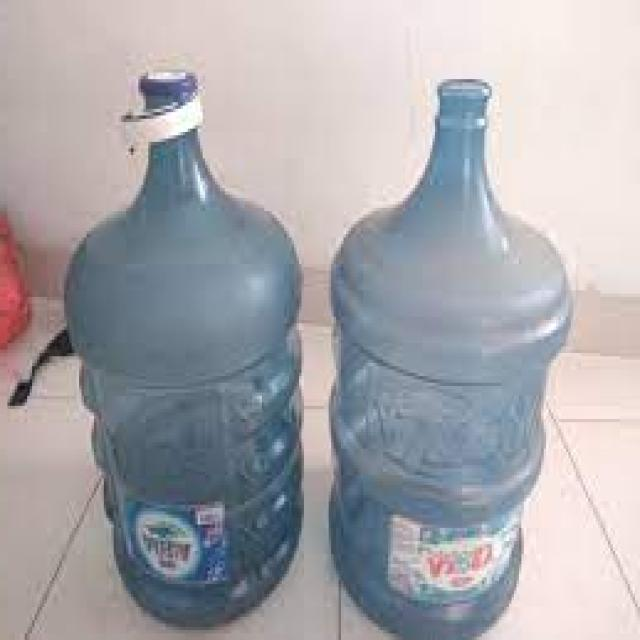Galon: (10, 63, 306, 626), (328, 73, 576, 636)
